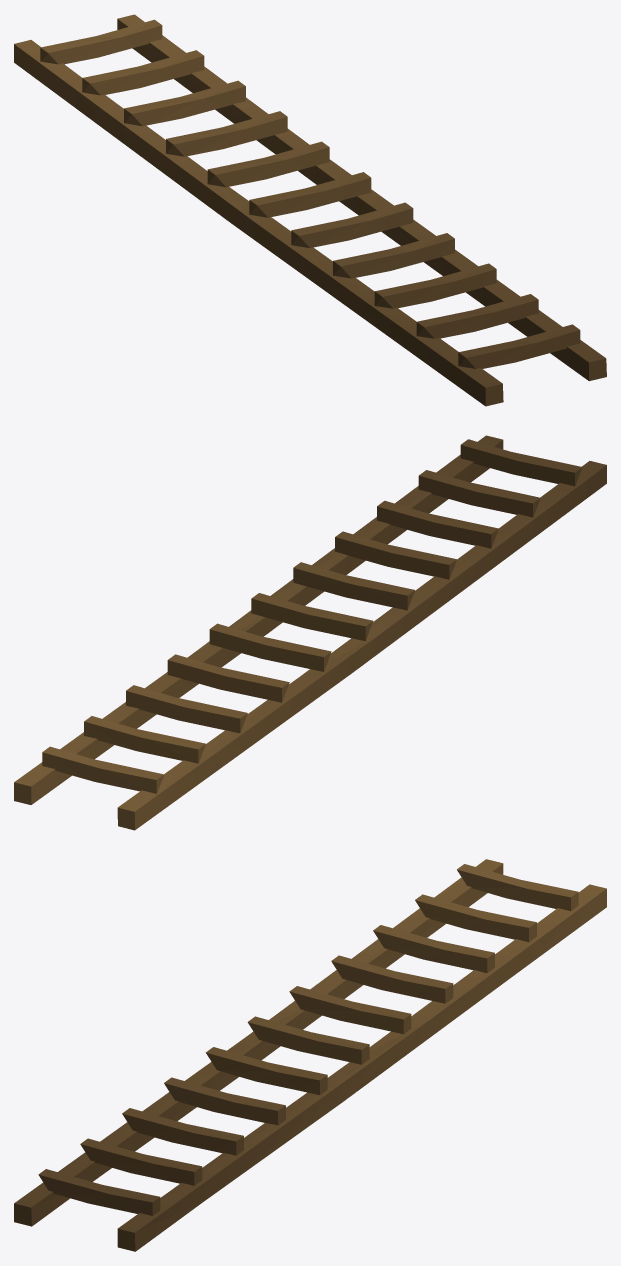
File: Stairs_02.fbx
The picture shows the model from 3 angles, top to bottom: view 1: azimuth 30°, elevation 25°; view 2: azimuth 150°, elevation 25°; view 3: azimuth 330°, elevation 25°; orthographic projection.
Parts seen in each view (by area): view 1: Stairs_02; view 2: Stairs_02; view 3: Stairs_02.
Boxes of the visible parts, left/top/right/bottom form: Stairs_02: left=14, top=14, right=606, bottom=406; Stairs_02: left=14, top=435, right=606, bottom=830; Stairs_02: left=14, top=859, right=606, bottom=1251.
Bounding box in the file's own units: 0.5188 × 0.144 × 3.49.
